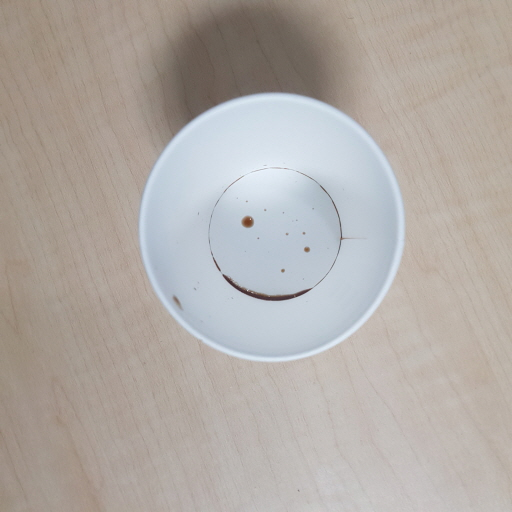Paper_1: (132, 90, 406, 364)
